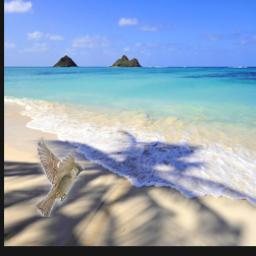Sparrow: (36, 138, 84, 218)
